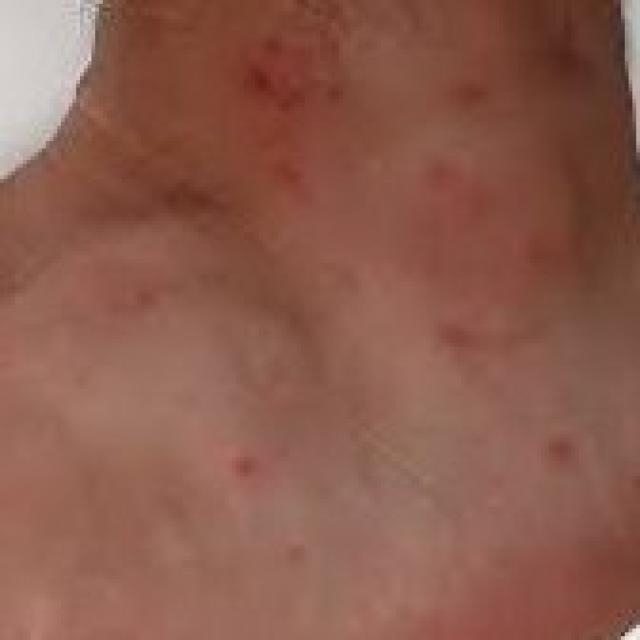kan emici bocekler: (176, 21, 548, 259)
